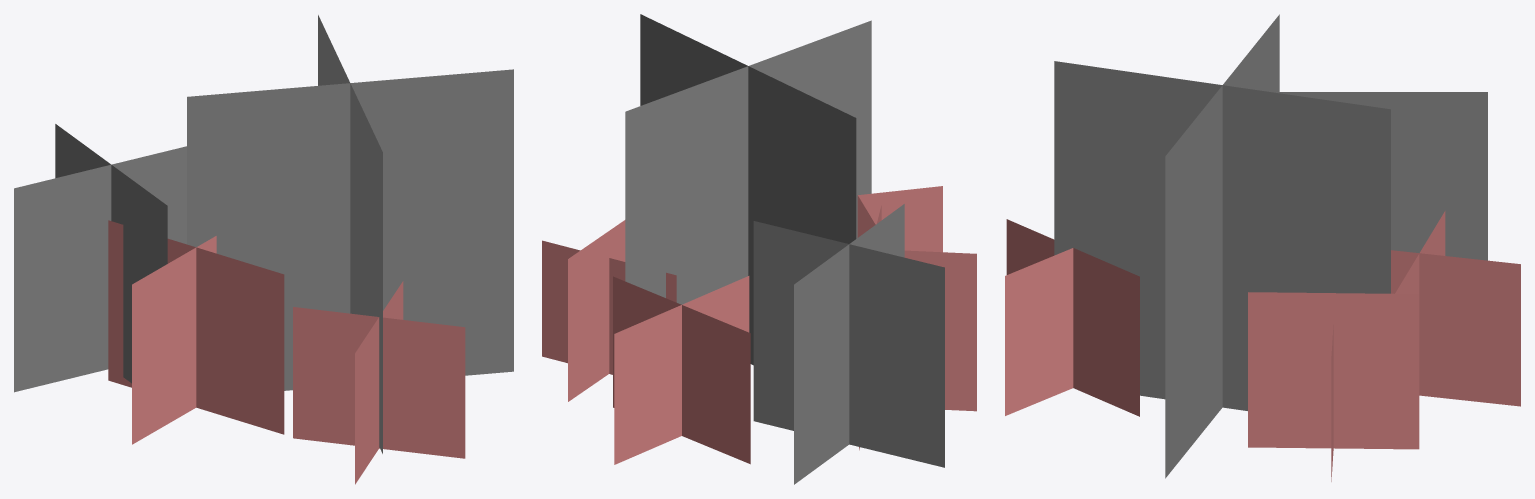
File: SM_grass_flower_patch2.fbx
3 renders of one model, left to right at view 1: azimuth 30°, elevation 25°; view 2: azimuth 150°, elevation 25°; view 3: azimuth 270°, elevation 25°, orthographic. The views are drawn at different scales.
Visible parts, largest first — view 1: SM_grass_flower_patch2; view 2: SM_grass_flower_patch2; view 3: SM_grass_flower_patch2.
Part boxes in pixels (box(x1,y1,x2,y2)): SM_grass_flower_patch2: box(14, 15, 513, 484); SM_grass_flower_patch2: box(542, 14, 976, 484); SM_grass_flower_patch2: box(1005, 14, 1520, 481).
Bounding box in the file's own units: 55.33 × 37.63 × 54.24.
